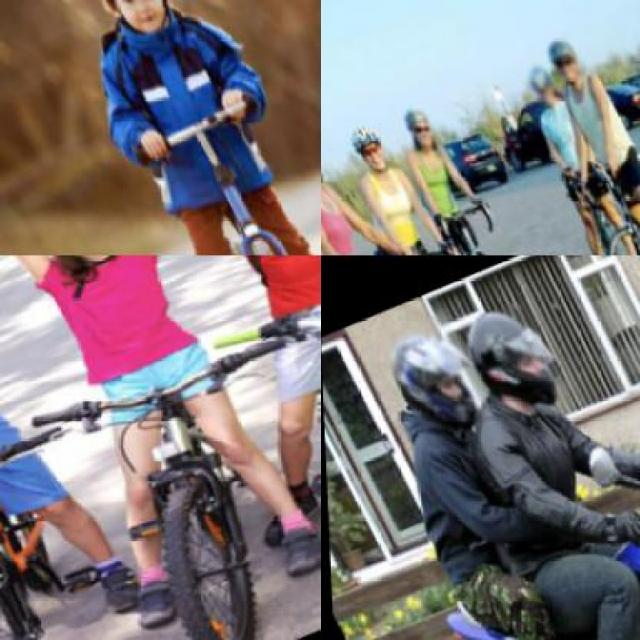With Helmet: (374, 305, 495, 444), (456, 292, 575, 425), (58, 0, 198, 55), (386, 86, 448, 159), (338, 112, 394, 180), (536, 23, 590, 88), (519, 54, 564, 109)
